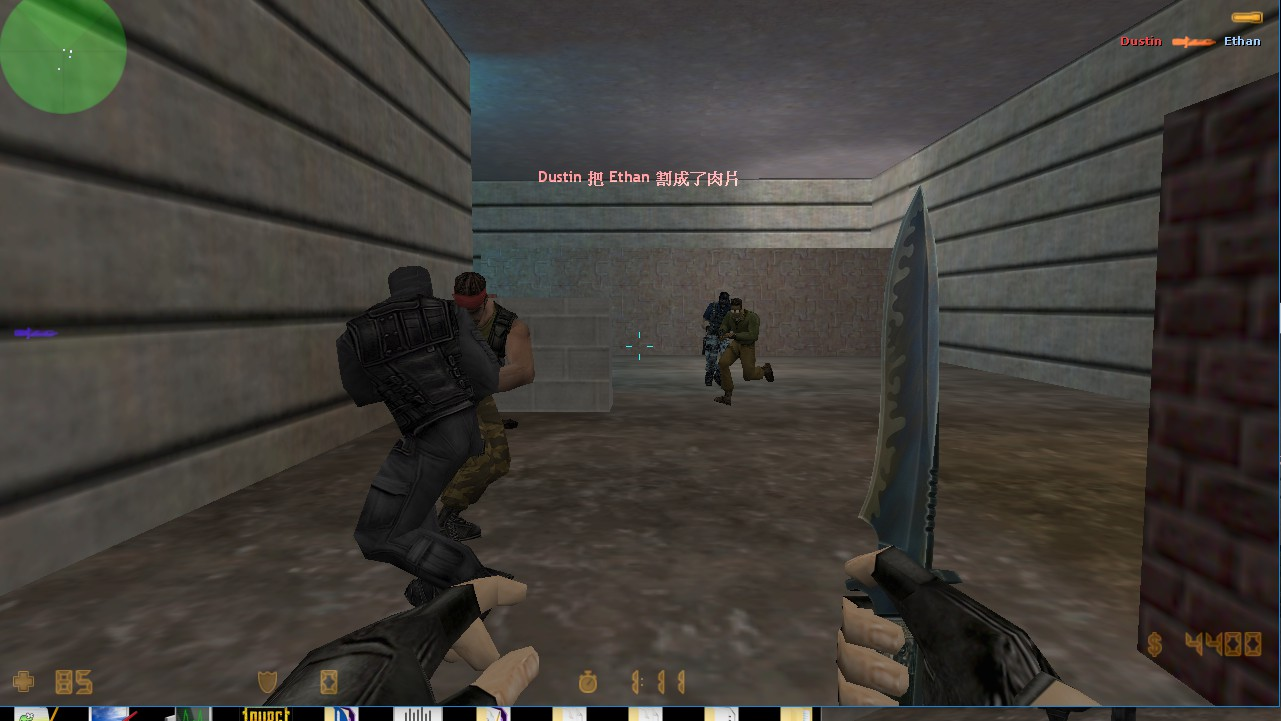person: (322, 256, 525, 618), (718, 299, 786, 404), (699, 289, 738, 389)
